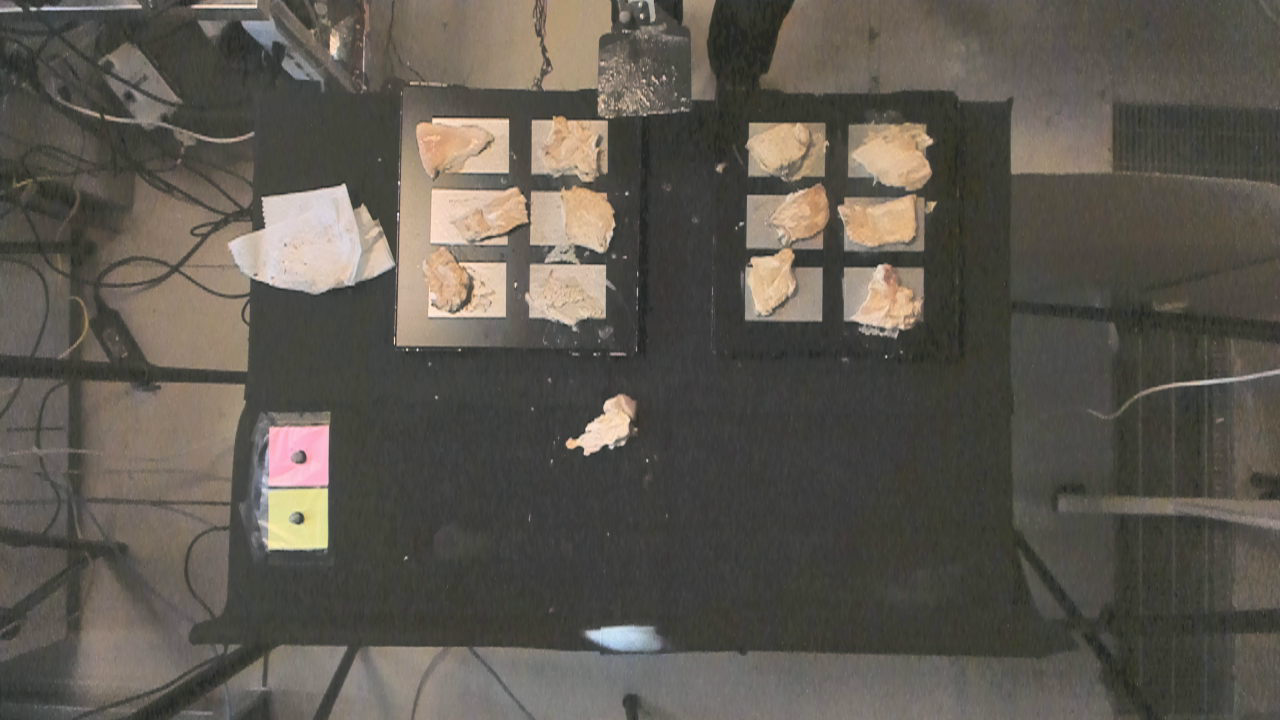chicken: (850, 129, 937, 197), (842, 267, 929, 335), (746, 111, 817, 176), (837, 199, 927, 250), (413, 119, 491, 177), (543, 114, 605, 183), (556, 187, 617, 256), (774, 174, 835, 241), (568, 393, 636, 453), (446, 193, 534, 239), (747, 247, 799, 319), (423, 245, 473, 312)
marker: (268, 428, 326, 485)
